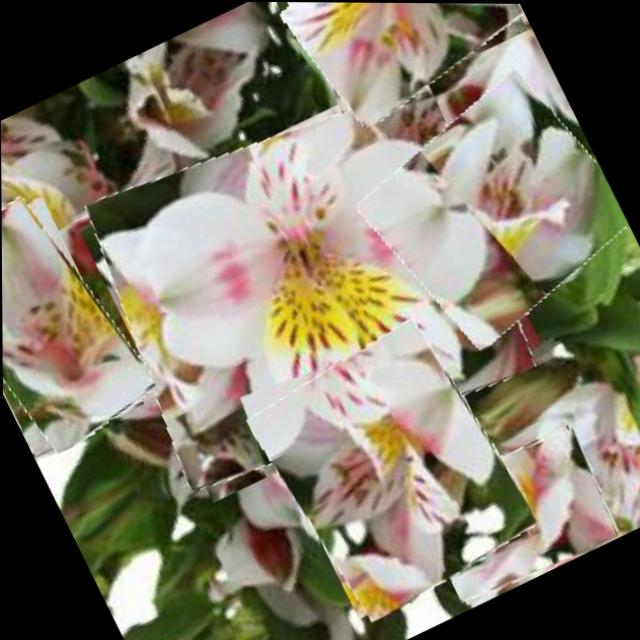Flower: (66, 56, 554, 517), (244, 311, 542, 627), (343, 63, 640, 360), (1, 185, 157, 462), (410, 418, 625, 610), (273, 2, 535, 130)
